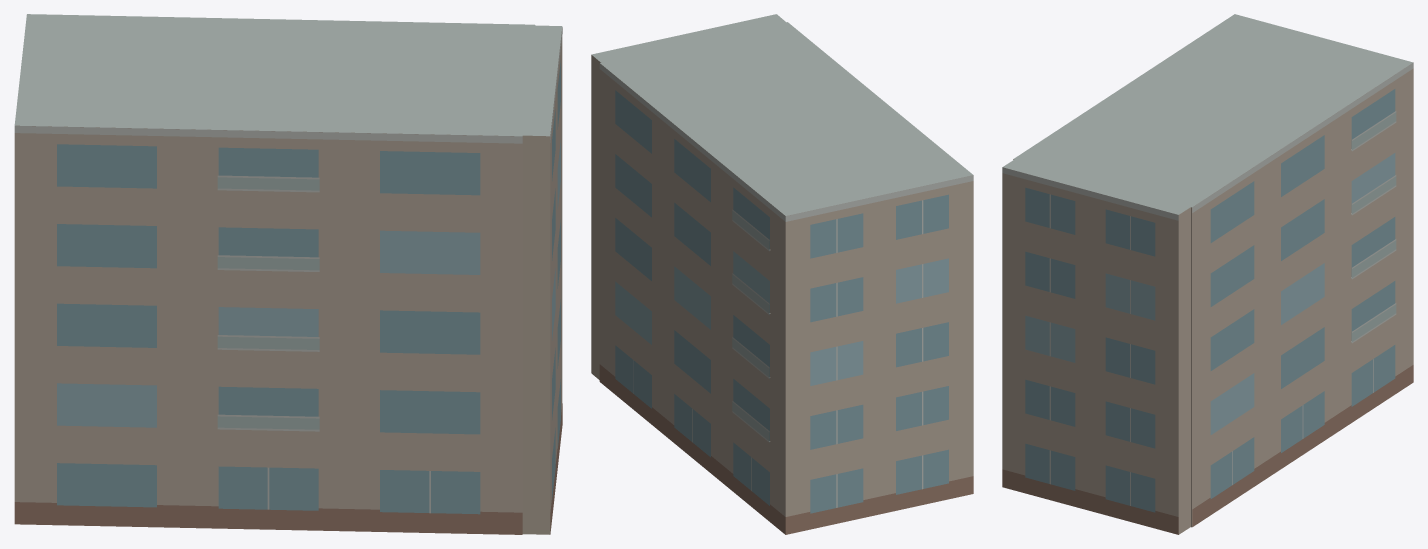
File: survey-upis-32851097.glb
3 views of the same model, side by side, from view 1: azimuth 30°, elevation 25°; view 2: azimuth 150°, elevation 25°; view 3: azimuth 270°, elevation 25° (orthographic). The views are drawn at different scales.
Visible parts, largest first — view 1: survey-upis-32851097.tmp; view 2: survey-upis-32851097.tmp; view 3: survey-upis-32851097.tmp.
Boxes of the visible parts, x1=… form: survey-upis-32851097.tmp: x1=14, y1=14, x2=562, y2=534; survey-upis-32851097.tmp: x1=591, y1=14, x2=973, y2=534; survey-upis-32851097.tmp: x1=1002, y1=14, x2=1413, y2=534.
Bounding box in the file's own units: 17.78 × 13.2 × 15.38.
